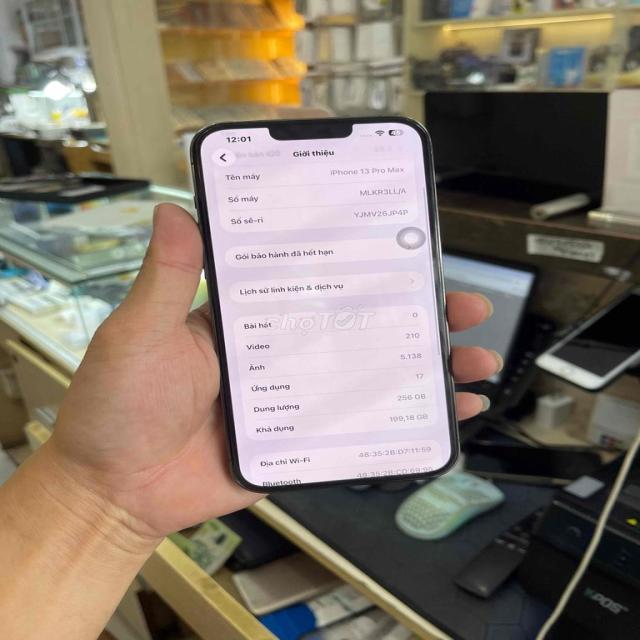gen_12_13: (191, 117, 461, 492)
